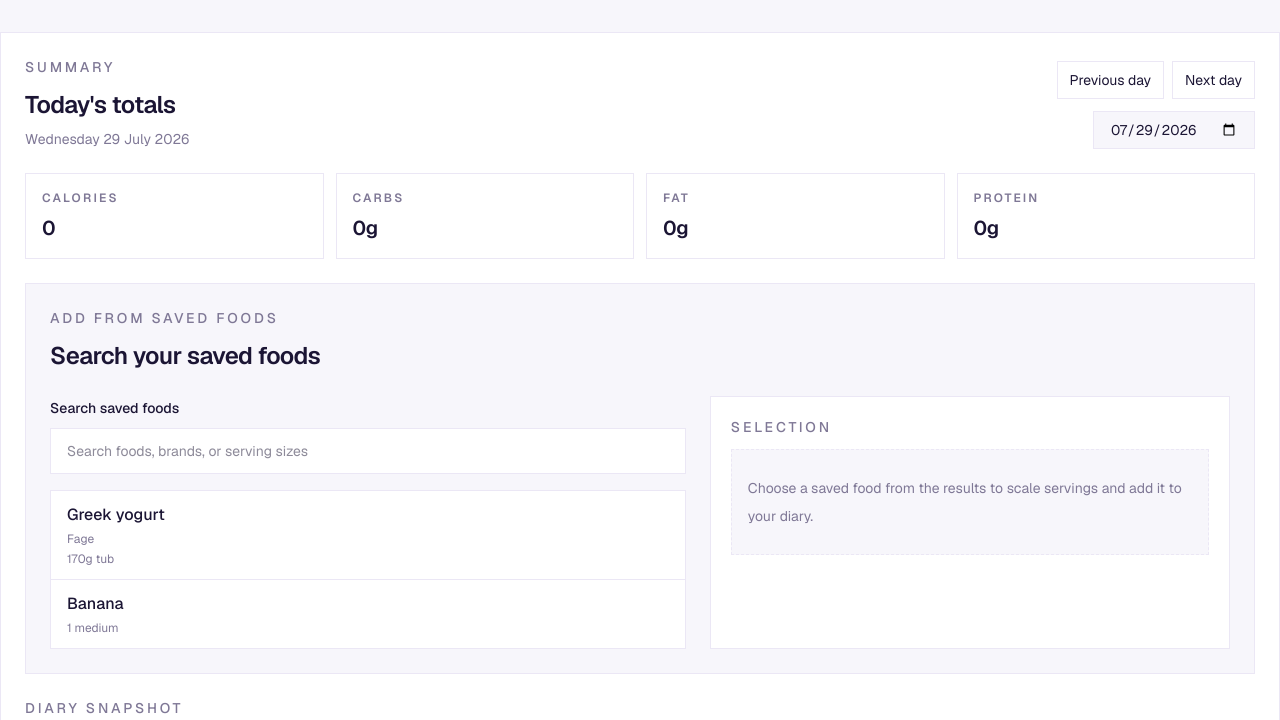
Scenario: DiaryPage › supports fuzzy saved food search in the diary picker
In the search field labelled "Search saved foods": (368, 451) left=50, top=428, right=686, bottom=474, type "grk ygt"
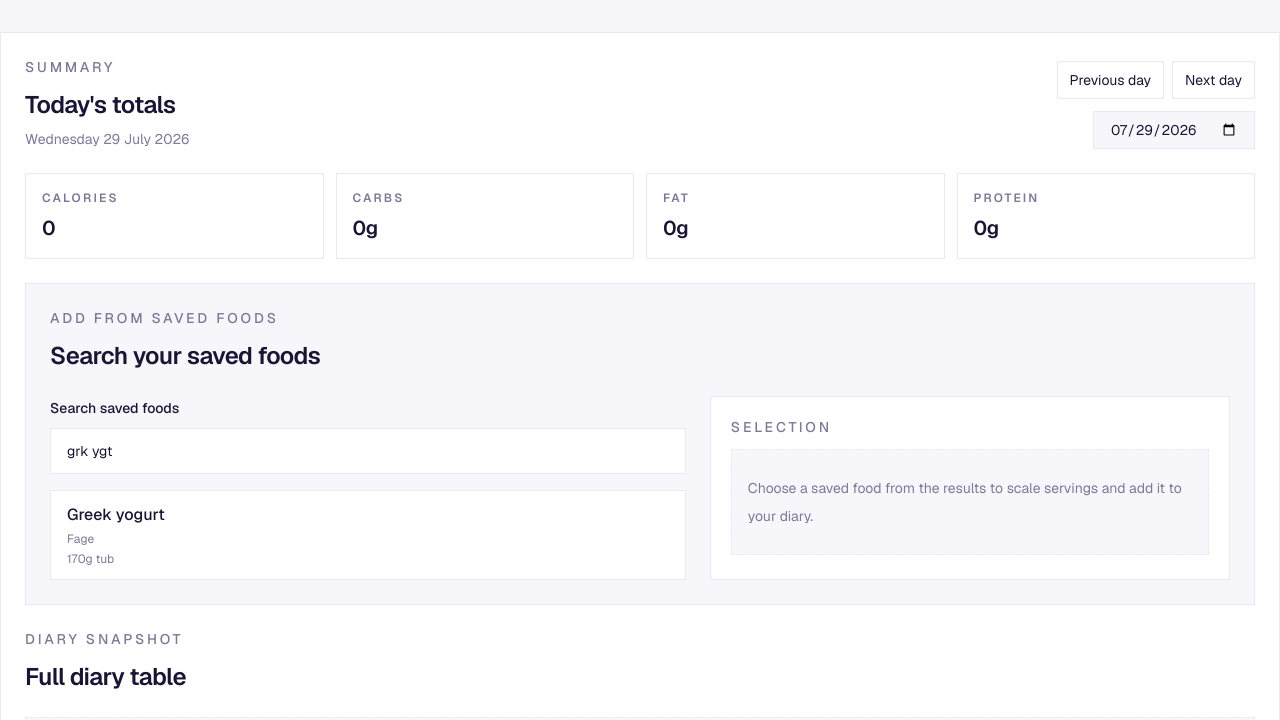
Expected: the text "Greek yogurt" is shown, left=67, top=503, right=165, bottom=527
Expected: the button "Banana" is gone
